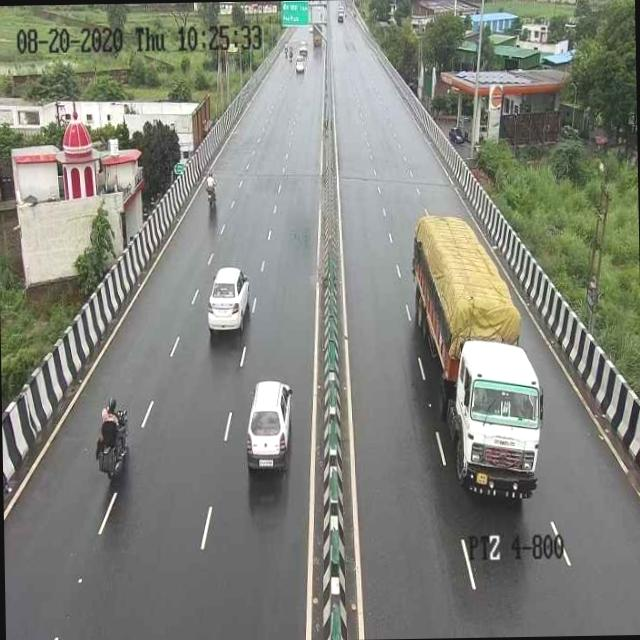car: (237, 369, 294, 492), (201, 259, 253, 344)
